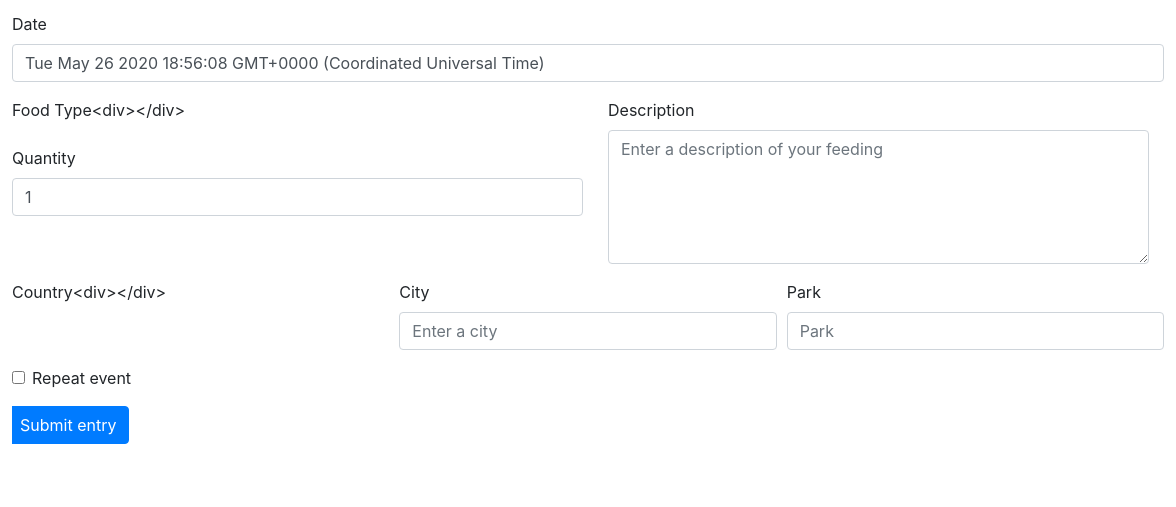
when rendering component › date field › should show error message when empty
Clear the field labelled "Date" at (588, 63), box top-left (12, 44), bottom-right (1164, 82)
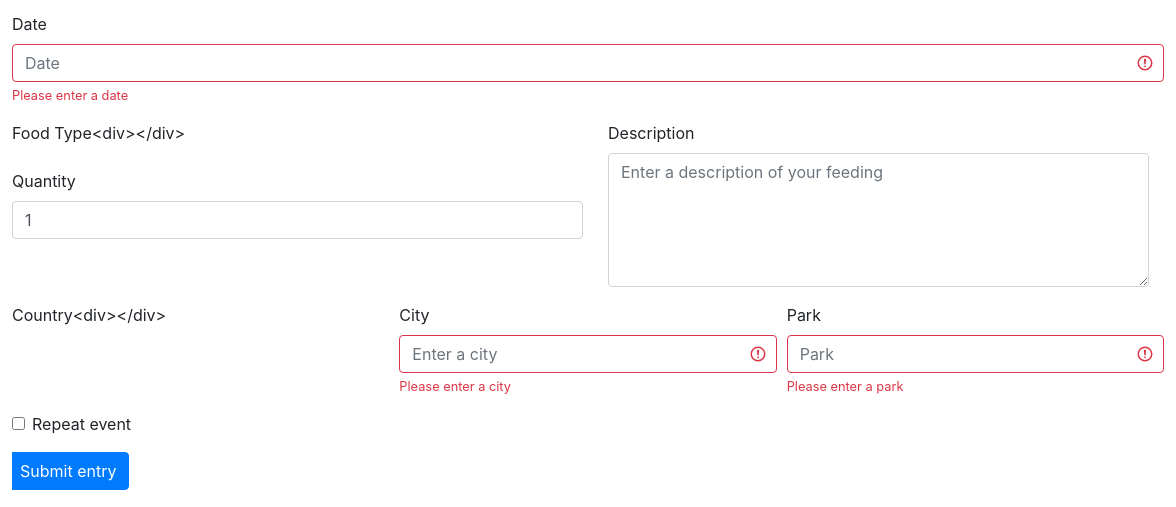
Check: the text "Please enter a date" is shown, box top-left (12, 88), bottom-right (128, 103)
